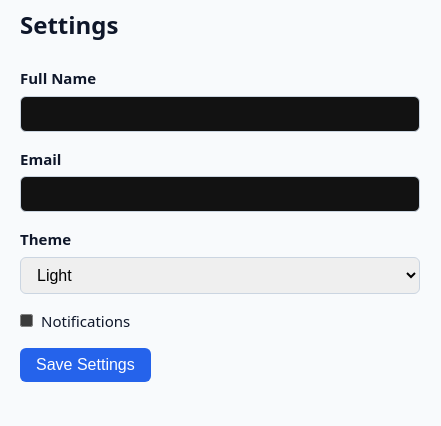
it: SettingsForm › shows an error for an invalid email address
Type "Jane Doe" into the field labelled "Full Name" at (220, 114), box x1=20 y1=96 x2=420 y2=132
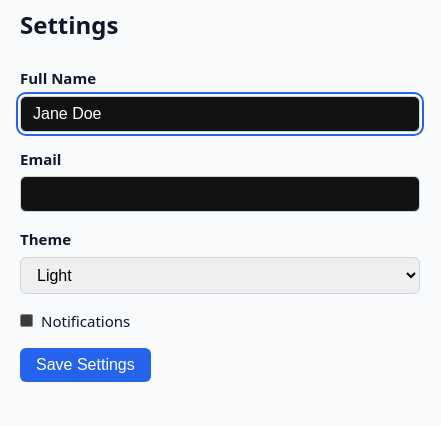
Type "not-an-email" into the field labelled "Email" at (220, 194), box x1=20 y1=176 x2=420 y2=212
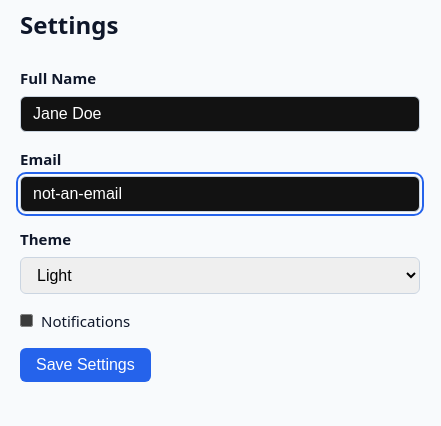
Select "Light" in the dropdown labelled "Theme" at (220, 275), box x1=20 y1=256 x2=420 y2=294
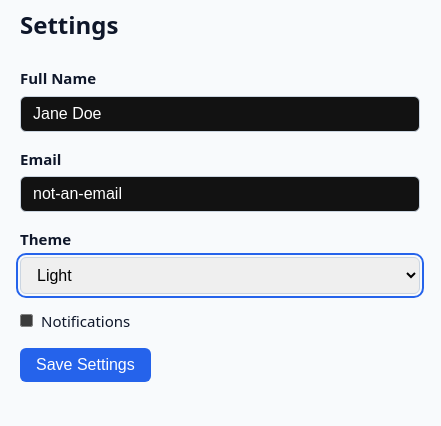
Click the button "Save Settings" at (85, 365), box x1=20 y1=348 x2=151 y2=382
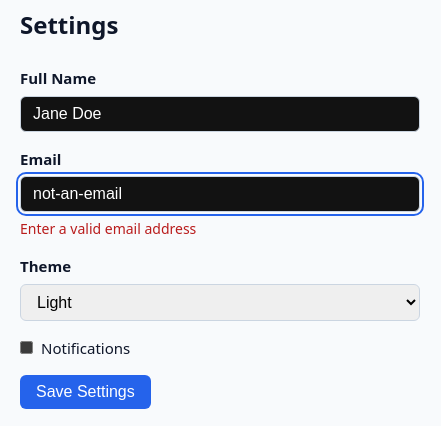
expect the text "Enter a valid email address" is shown: met, box x1=20 y1=219 x2=196 y2=238
